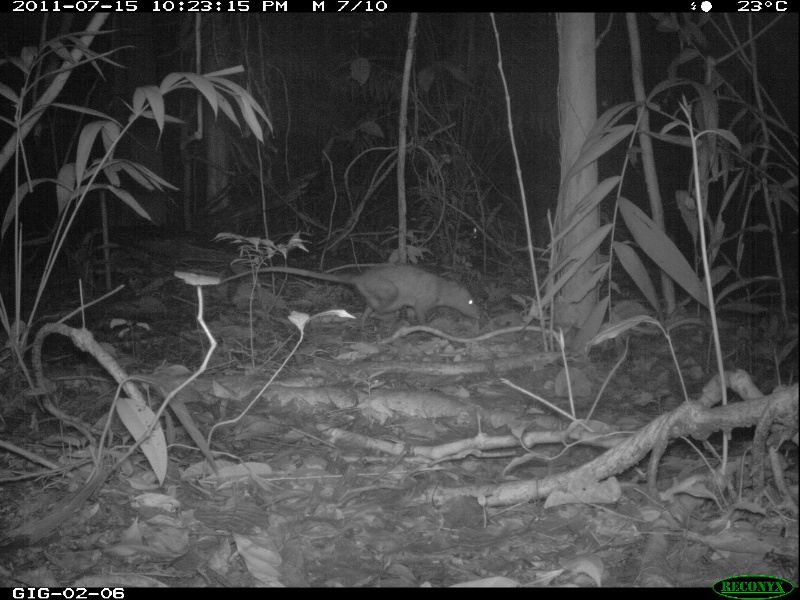opossum: (218, 255, 486, 324)
